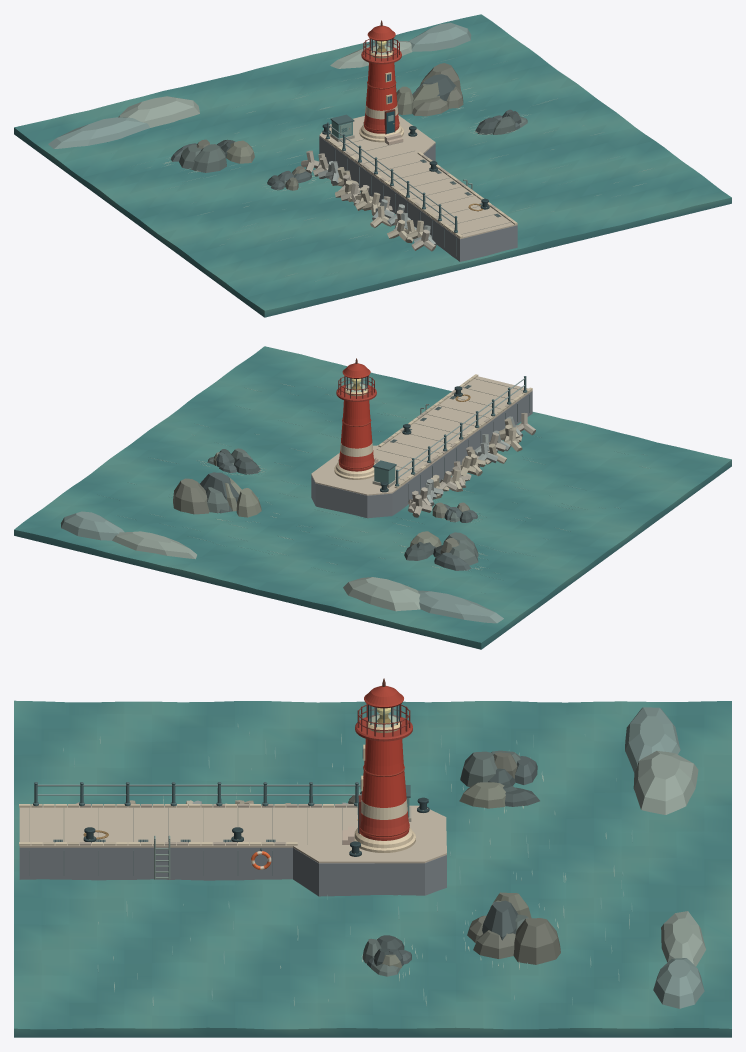
File: coastal_signal_station.glb
3 views of the same model, one above another, from view 1: azimuth 30°, elevation 25°; view 2: azimuth 150°, elevation 25°; view 3: azimuth 270°, elevation 25° (orthographic). The views are drawn at different scales.
Parts seen in each view (by area): view 1: 03 Tidal water and whitecaps, 01 Seawall, granite reefs and wave breakers, 02 Signal tower, ironmongery and lamp; view 2: 03 Tidal water and whitecaps, 01 Seawall, granite reefs and wave breakers, 02 Signal tower, ironmongery and lamp; view 3: 03 Tidal water and whitecaps, 01 Seawall, granite reefs and wave breakers, 02 Signal tower, ironmongery and lamp.
Boxes of the visible parts, <box> form: 03 Tidal water and whitecaps: <box>14,14,731,317</box>; 01 Seawall, granite reefs and wave breakers: <box>48,22,527,261</box>; 02 Signal tower, ironmongery and lamp: <box>322,20,489,232</box>; 03 Tidal water and whitecaps: <box>14,346,731,649</box>; 01 Seawall, granite reefs and wave breakers: <box>61,374,535,623</box>; 02 Signal tower, ironmongery and lamp: <box>336,358,527,492</box>; 03 Tidal water and whitecaps: <box>14,700,731,1037</box>; 01 Seawall, granite reefs and wave breakers: <box>19,707,705,1008</box>; 02 Signal tower, ironmongery and lamp: <box>33,678,429,879</box>.
Bounding box in the file's own units: 28 × 8.16 × 26.
